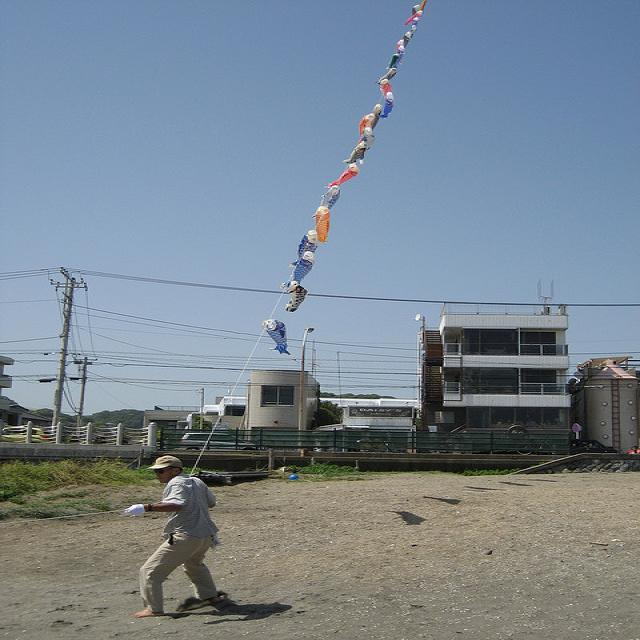Vehicle: (182, 434, 258, 448)
